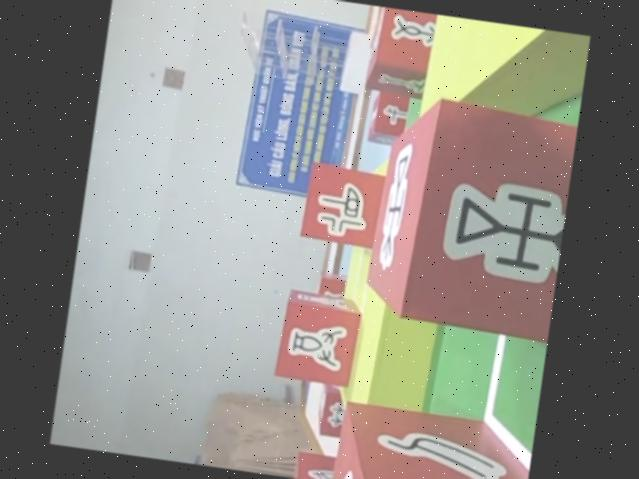R2 Real: (360, 92, 579, 339), (329, 400, 535, 479), (273, 288, 362, 385), (299, 161, 389, 247), (364, 6, 448, 97)
